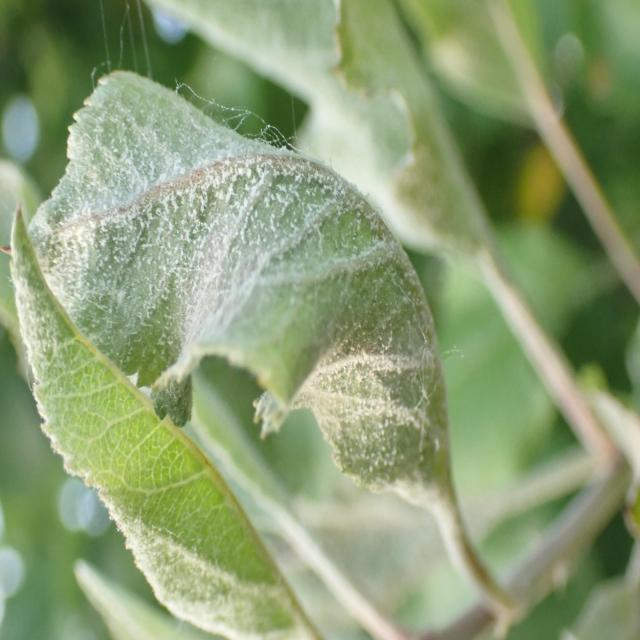Powdery_mildew: (45, 47, 462, 502), (1, 201, 332, 640), (140, 0, 530, 294)
